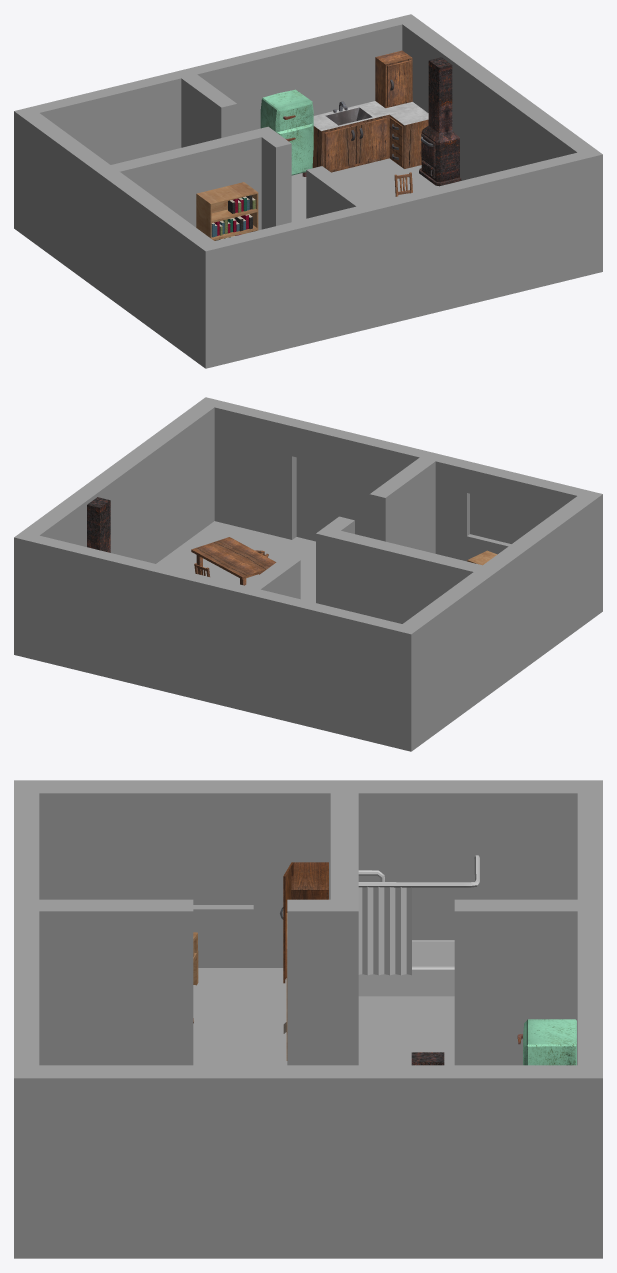
Rendered from H1_Int_Damaged.fbx.
3 renders of one model, top to bottom at view 1: azimuth 30°, elevation 25°; view 2: azimuth 150°, elevation 25°; view 3: azimuth 270°, elevation 25°, orthographic. The views are drawn at different scales.
Visible parts, largest first — view 1: House_1_Interior, KItchen_Sink9, Oven1, BookShelf9, Fidge1; view 2: House_1_Interior, Table1, Oven1; view 3: House_1_Interior, Shower_3, Fidge1, Closet1.
Part boxes in pixels (bbox=[...]): House_1_Interior: bbox=[14, 14, 602, 368]; KItchen_Sink9: bbox=[312, 50, 428, 172]; Oven1: bbox=[419, 57, 461, 186]; BookShelf9: bbox=[196, 182, 258, 240]; Fidge1: bbox=[260, 89, 313, 176]; House_1_Interior: bbox=[14, 397, 602, 751]; Table1: bbox=[191, 537, 276, 585]; Oven1: bbox=[87, 497, 110, 552]; House_1_Interior: bbox=[14, 780, 602, 1258]; Shower_3: bbox=[358, 855, 479, 996]; Fidge1: bbox=[517, 1019, 576, 1065]; Closet1: bbox=[280, 862, 328, 983].
Size of the model in its own units: 30.07 by 8.49 by 25.13.
